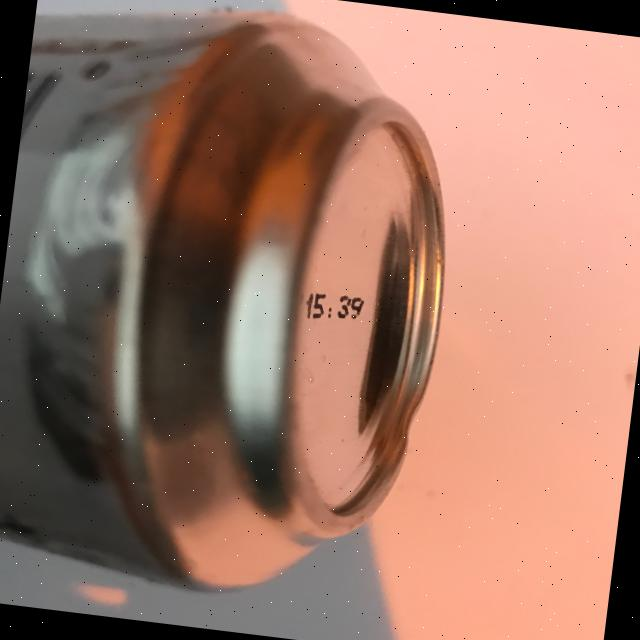metal: (0, 0, 477, 615)
